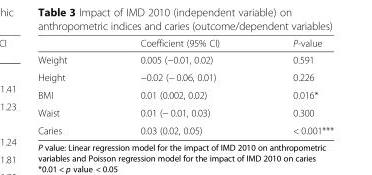table: (37, 37, 333, 135)
table column: (103, 37, 255, 135), (255, 37, 333, 135), (37, 37, 103, 135)
table column header: (37, 37, 333, 50)
table row: (37, 67, 333, 85), (37, 85, 333, 103), (37, 103, 333, 121), (37, 50, 333, 67), (37, 121, 333, 135), (37, 37, 333, 50)
